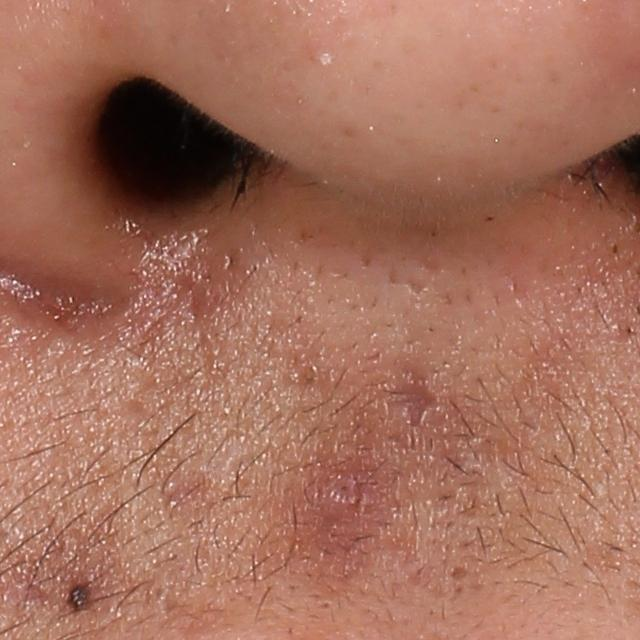atrophic_scar: (384, 363, 444, 425), (447, 562, 469, 580)
nevus: (66, 583, 93, 615)
